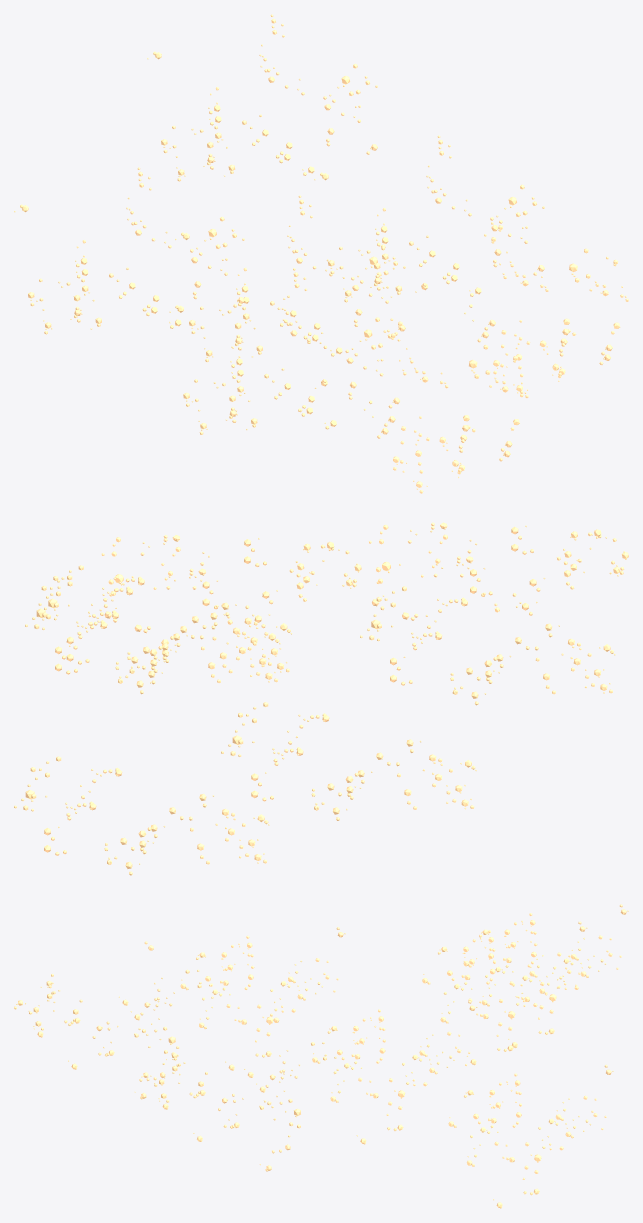
The model's file is lvl1_glow_below.glb.
3 views of the same model, one above another, from view 1: azimuth 30°, elevation 25°; view 2: azimuth 150°, elevation 25°; view 3: azimuth 270°, elevation 25° (orthographic). The views are drawn at different scales.
Visible parts, largest first — view 1: glow below; view 2: glow below; view 3: glow below.
Boxes of the visible parts, box(x1,y1,x2,y2) form: glow below: box(14, 14, 628, 493); glow below: box(14, 522, 628, 875); glow below: box(14, 904, 628, 1208).
Size of the model in its own units: 263 by 158 by 357.
Materials: 1 (1 with a texture image).
